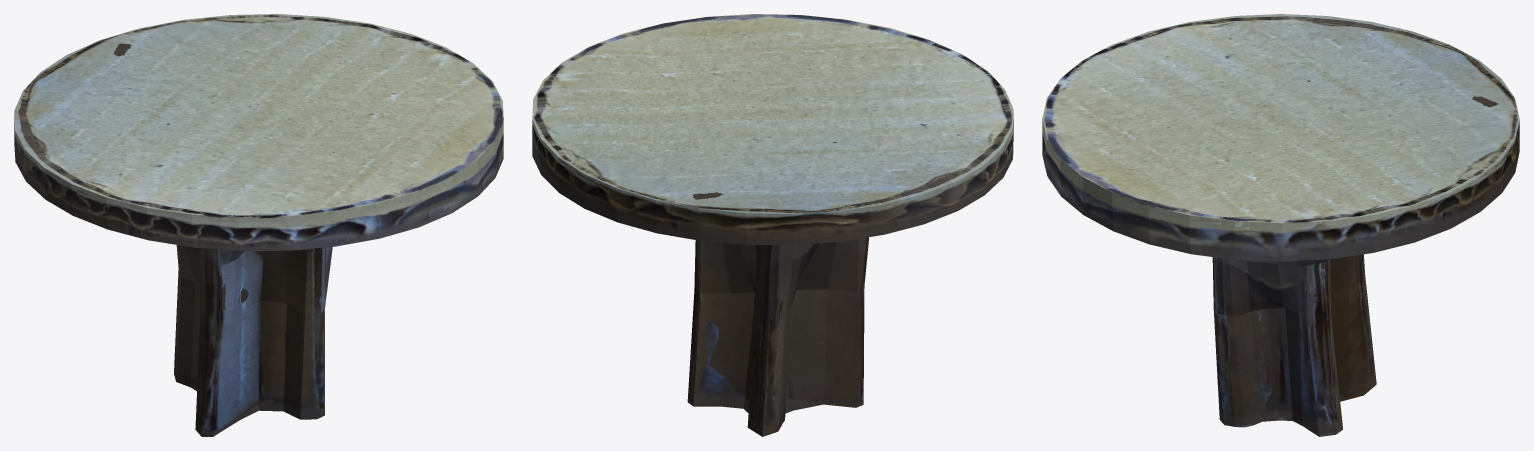
The model's file is table.fbx.
The picture shows the model from 3 angles, left to right: view 1: azimuth 30°, elevation 25°; view 2: azimuth 150°, elevation 25°; view 3: azimuth 270°, elevation 25°; orthographic projection.
Parts seen in each view (by area): view 1: Cylinder; view 2: Cylinder; view 3: Cylinder.
Boxes of the visible parts, x1,y1,x2,y2 form: Cylinder: [14, 14, 503, 436]; Cylinder: [532, 14, 1013, 436]; Cylinder: [1042, 14, 1519, 436].
Size of the model in its own units: 39.74 by 25.69 by 38.31.
1 material, 1 textured.
